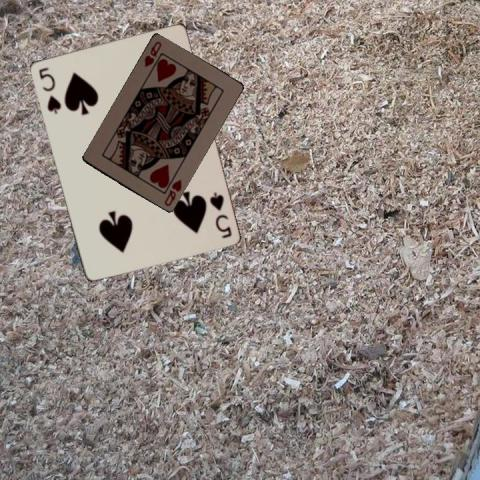5s: (35, 64, 63, 115), (206, 189, 233, 239)
Qh: (162, 177, 184, 208), (142, 38, 163, 68)
